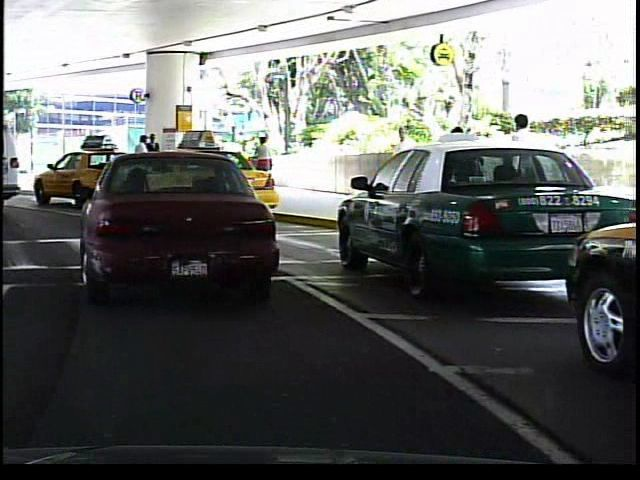person: (436, 114, 487, 227), (502, 108, 548, 231), (387, 119, 422, 205), (252, 133, 276, 192), (131, 132, 152, 188), (145, 129, 164, 188)
